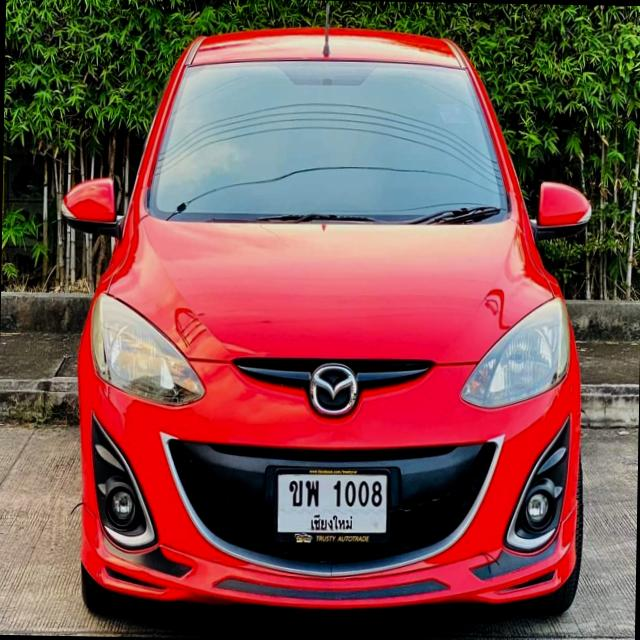license_plate: (271, 465, 394, 547)
